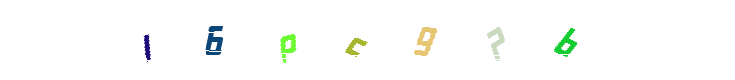6: (270, 0, 350, 80)
7: (398, 0, 478, 80)
9: (383, 0, 463, 80)
B: (526, 0, 606, 80)
C: (327, 0, 407, 80)
J: (155, 0, 235, 80)
P: (315, 0, 395, 80)
